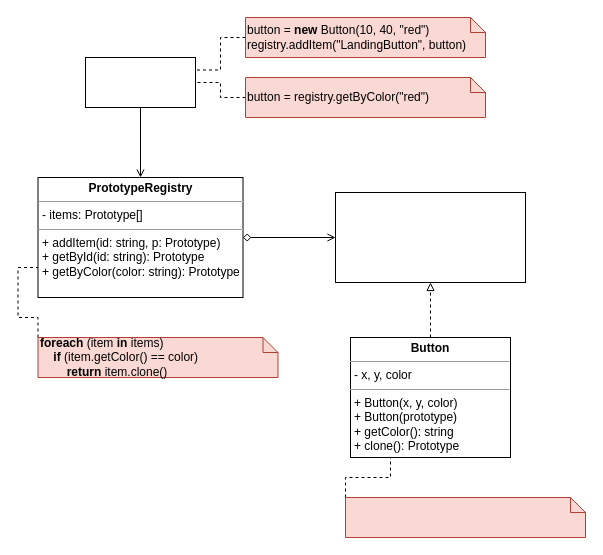
Image size: 603x555. Some labels were removed from this diagram. The box of each missing label's shape, as (x1, y1, x2, y2) in pixels:
<<Interface>> Prototype + getColor(): string + clone(): Prototype: (334, 192, 526, 282)
Client: (84, 56, 196, 108)
return new Button( this ): (344, 496, 586, 538)
